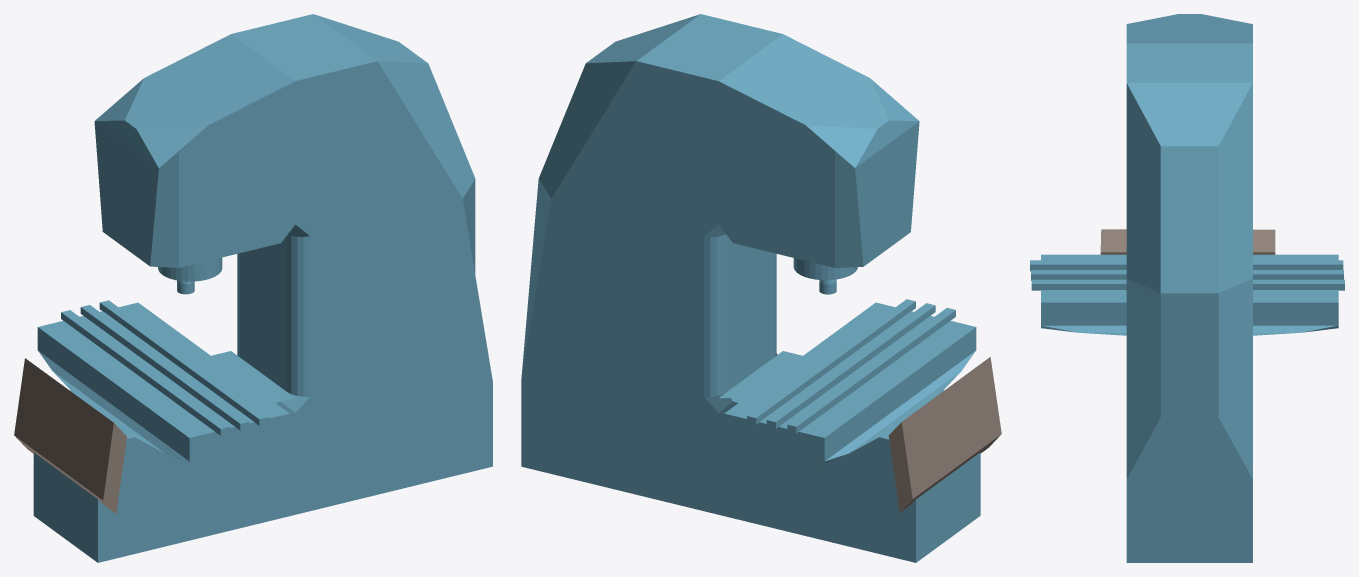
File: FREZ.fbx
3 renders of one model, left to right at view 1: azimuth 30°, elevation 25°; view 2: azimuth 150°, elevation 25°; view 3: azimuth 270°, elevation 25°, orthographic.
Visible parts, largest first — view 1: Cube, Cube.001; view 2: Cube, Cube.001; view 3: Cube, Cube.001.
Boxes of the visible parts, left/top/right/bottom form: Cube: left=33, top=14, right=492, bottom=562; Cube.001: left=14, top=358, right=126, bottom=513; Cube: left=521, top=14, right=980, bottom=562; Cube.001: left=888, top=357, right=1001, bottom=512; Cube: left=1030, top=14, right=1344, bottom=562; Cube.001: left=1100, top=229, right=1275, bottom=254.
Bounding box in the file's own units: 722 × 743 × 498.
